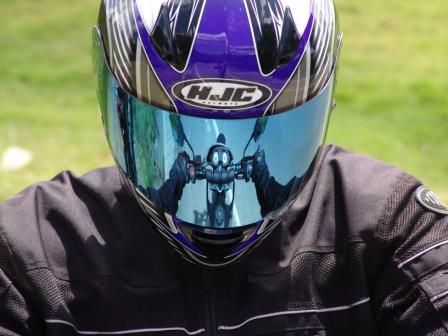helmet: (99, 1, 337, 263)
